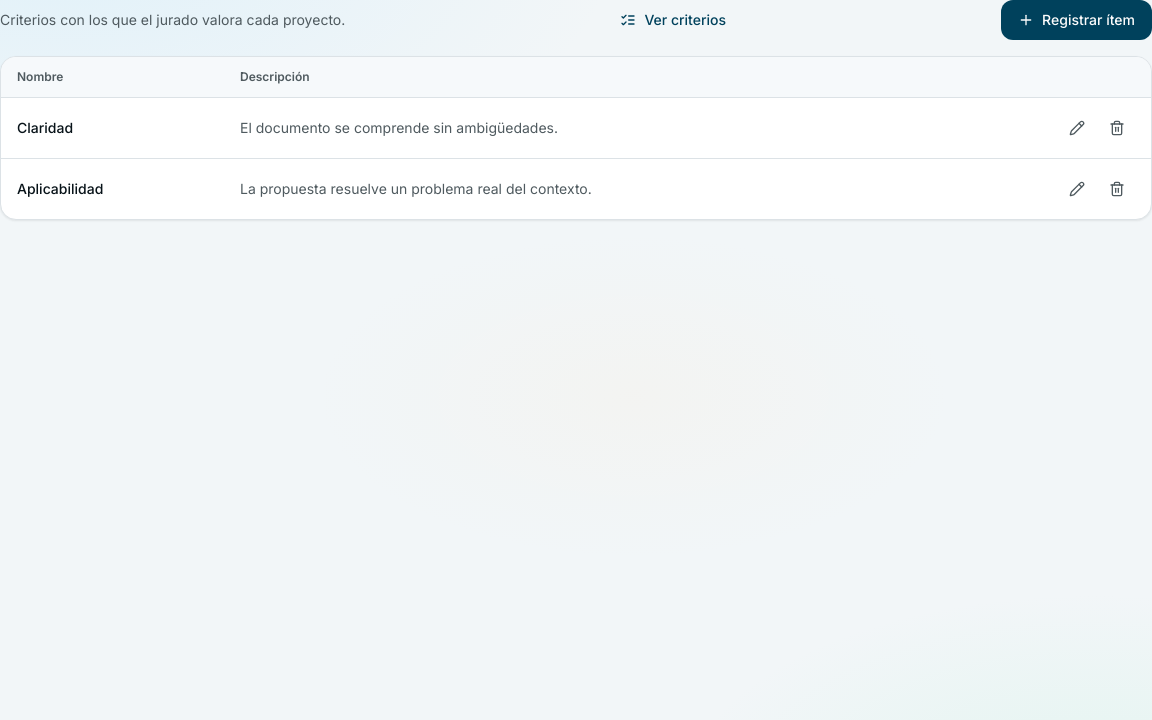
Test: ItemsCualitativosJuradoView › el administrador ve Remover por ítem y abre la confirmación; el jurado no lo ve
Step 1. Click the button named "Remover ítem Claridad" → x=1117, y=128, box x1=1099 y1=110 x2=1135 y2=146
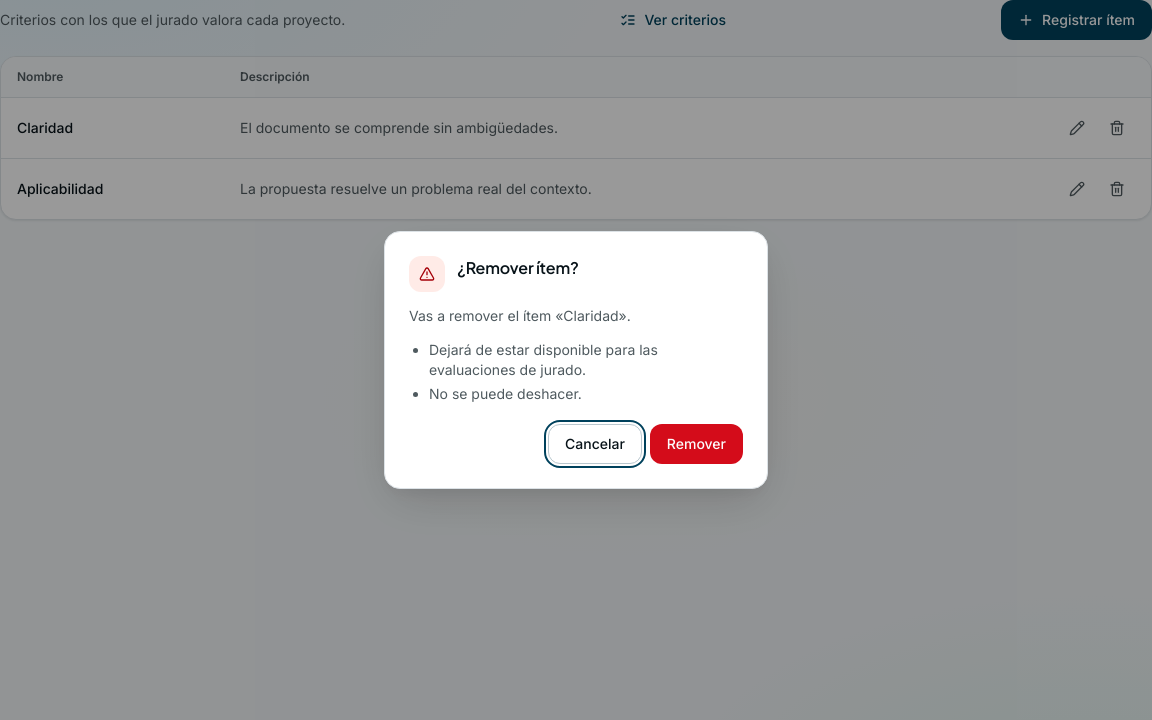
Now the dialog shows "Claridad", box x1=409 y1=307 x2=631 y2=324
